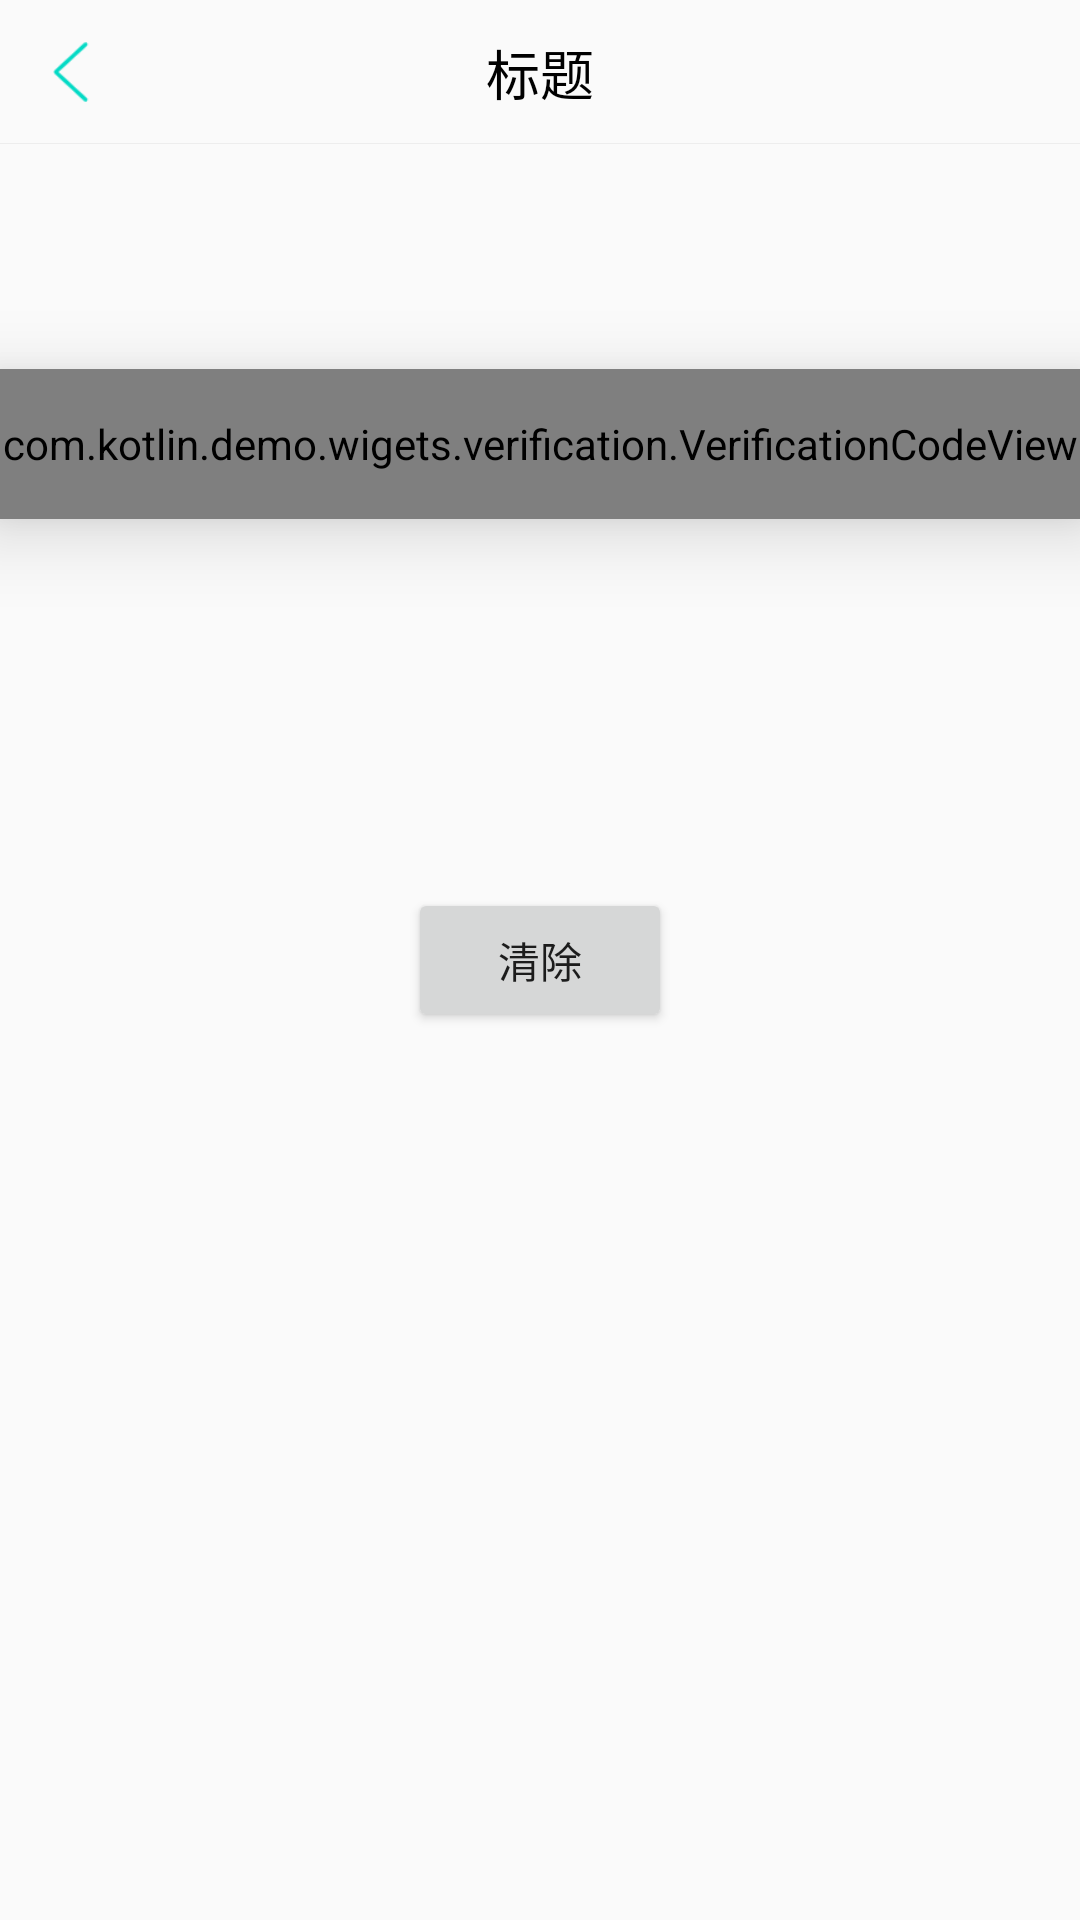

Icons on this 1080×1920 Android screen, each with its box as (x1, y1, x2, y2):
back: (53, 42, 88, 102)
